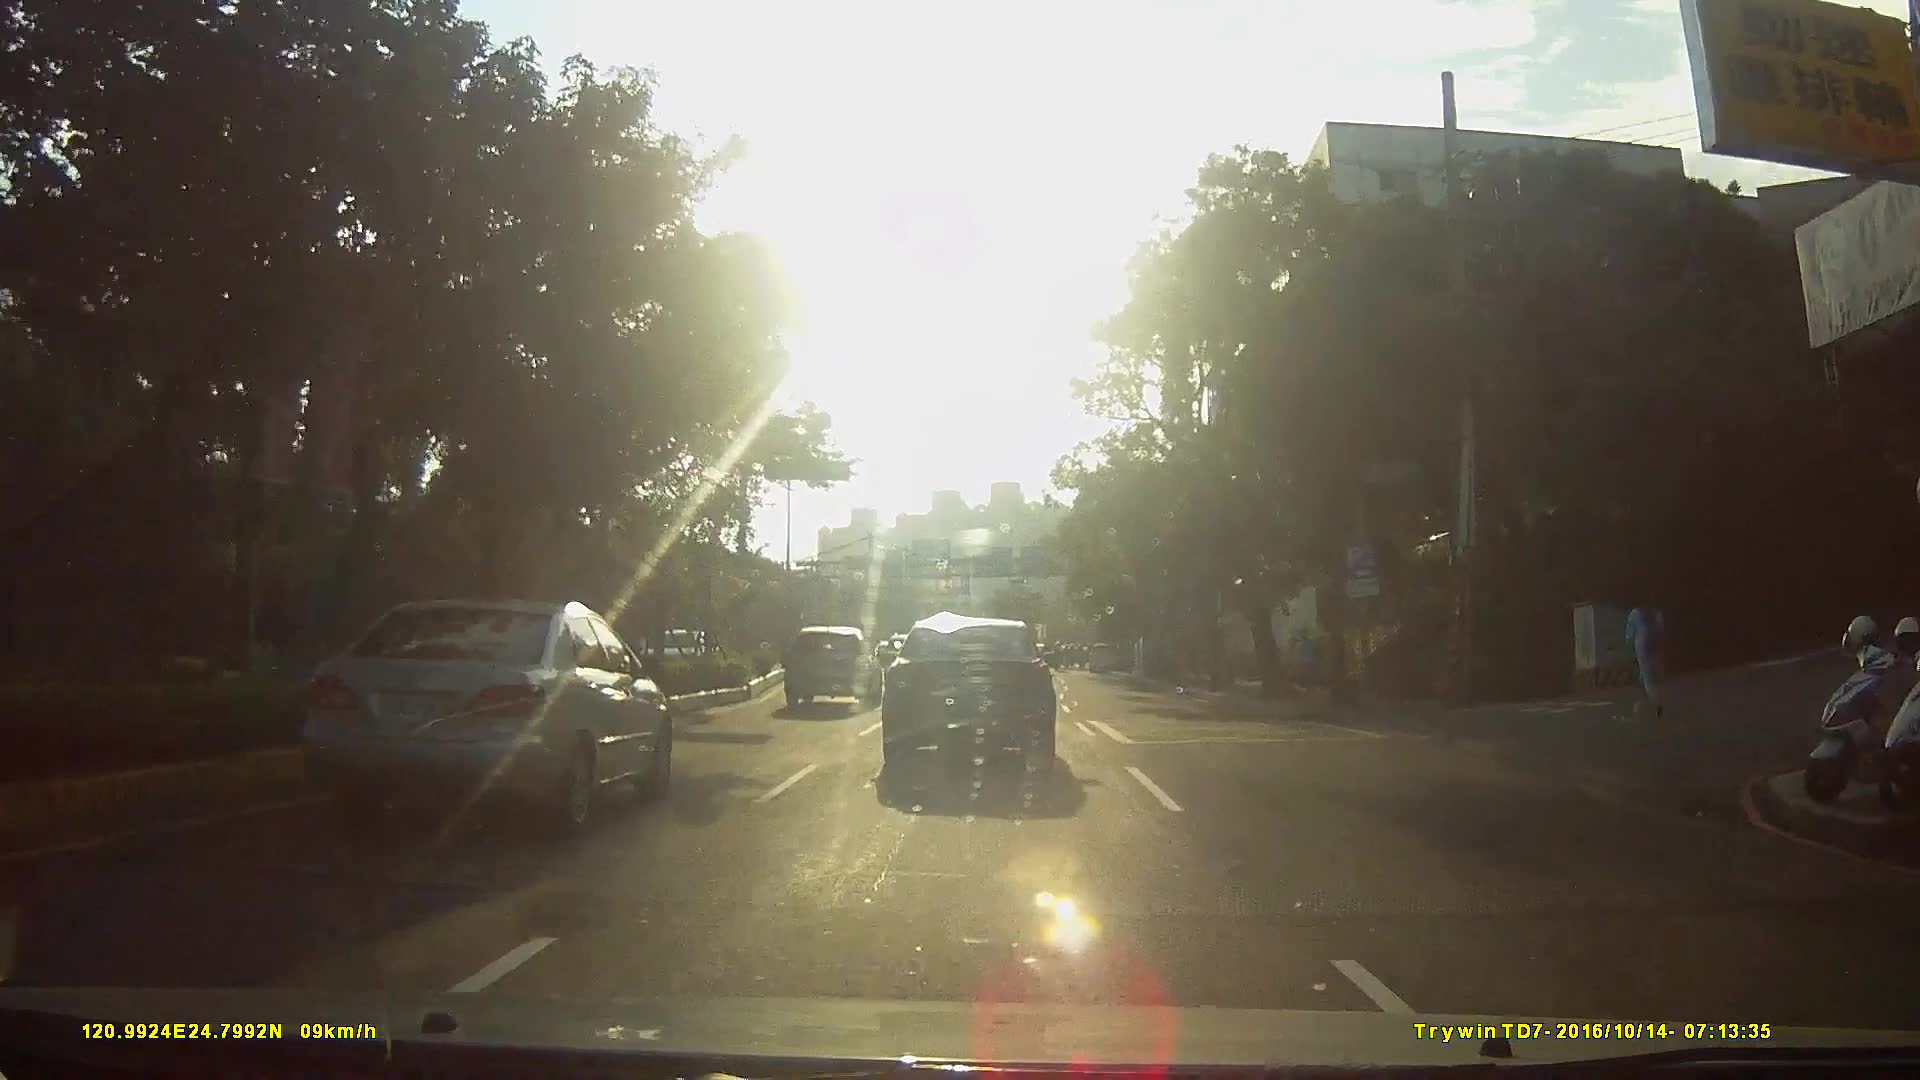pedestrian: (1625, 584, 1676, 716)
vehicle: (285, 595, 674, 831), (875, 615, 1077, 786), (782, 626, 883, 712), (1081, 642, 1115, 676)
